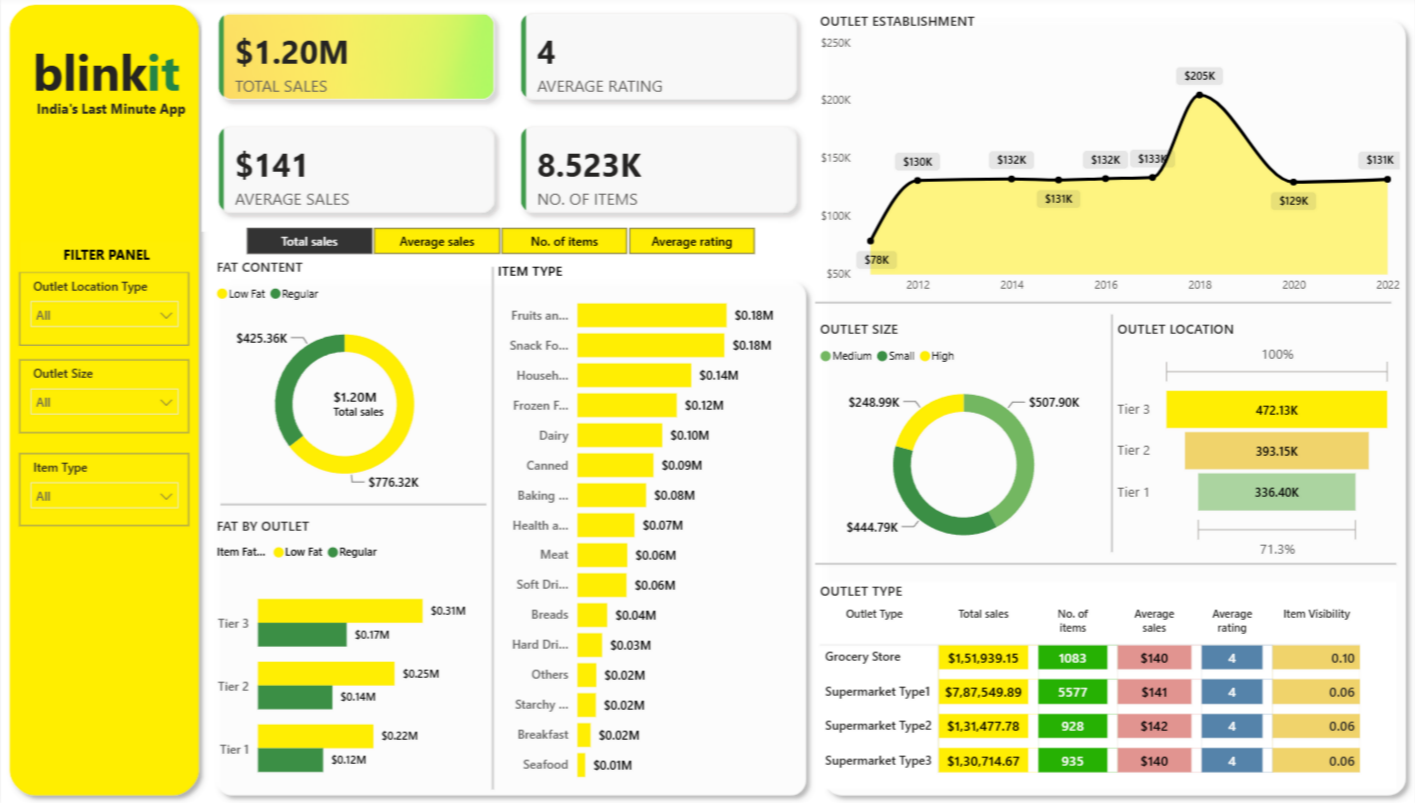

The dashboard page shown, as its layout file describes it:
{"tool":"powerbi","page":{"name":"Dashboard","canvas":[1400,800],"ordinal":0},"visuals":[{"type":"shape","box":[0,0,205.3,800.3],"z":0},{"type":"textbox","box":[0,37.1,209,76.7],"z":1000},{"type":"textbox","box":[30.9,97.7,205.3,33.4],"z":2000},{"type":"cardVisual","fields":{"Data":["BlinkIT Grocery Data.Total sales","BlinkIT Grocery Data.Average sales","BlinkIT Grocery Data.Average rating","BlinkIT Grocery Data.No. of items"]},"box":[199.1,0,607.3,233.8],"z":3000},{"type":"shape","box":[205.3,273.3,601.1,526.9],"z":4000},{"type":"donutChart","title":"FAT CONTENT","fields":{"Y":["BlinkIT Grocery Data.Total sales"],"Category":["BlinkIT Grocery Data.Item Fat Content"]},"box":[209,258.5,263.5,246.1],"z":5000},{"type":"slicer","fields":{"Values":["Metrics.Metrics"]},"box":[217.7,222.6,552.9,39.6],"z":6000},{"type":"cardVisual","fields":{"Data":["BlinkIT Grocery Data.Total sales"]},"box":[300.6,359.9,232.5,85.3],"z":7000},{"type":"clusteredBarChart","title":"FAT BY OUTLET","fields":{"Y":["BlinkIT Grocery Data.Total sales"],"Category":["BlinkIT Grocery Data.Outlet Location Type"],"Series":["BlinkIT Grocery Data.Item Fat Content"]},"box":[209,514.5,263.5,285.7],"z":8000},{"type":"shape","box":[217.7,482.4,263.5,42.1],"z":9000},{"type":"shape","box":[472.5,268.4,29.7,517],"z":10000},{"type":"barChart","title":"ITEM TYPE","fields":{"Y":["BlinkIT Grocery Data.Total sales"],"Category":["BlinkIT Grocery Data.Item Type"]},"box":[487.3,262.2,283.2,528.1],"z":11000},{"type":"shape","box":[806.4,14.8,593.7,785.4],"z":12000},{"type":"lineChart","title":"OUTLET ESTABLISHMENT","fields":{"Y":["BlinkIT Grocery Data.Total sales"],"Category":["BlinkIT Grocery Data.Outlet Establishment Year"]},"box":[806.4,14.8,583.8,288.2],"z":13000},{"type":"shape","box":[806.4,285.7,570.2,35.9],"z":14000},{"type":"donutChart","title":"OUTLET SIZE","fields":{"Y":["BlinkIT Grocery Data.Total sales"],"Category":["BlinkIT Grocery Data.Outlet Size"]},"box":[806.4,320.3,294.4,242.4],"z":15000},{"type":"shape","box":[1093.4,315.4,13.6,235],"z":16000},{"type":"funnel","title":" OUTLET LOCATION","fields":{"Category":["BlinkIT Grocery Data.Outlet Location Type"],"Y":["Sum(BlinkIT Grocery Data.Sales)"]},"box":[1100.8,320.3,282,242.4],"z":17000},{"type":"shape","box":[806.4,545.5,575.1,33.4],"z":18000},{"type":"pivotTable","title":"OUTLET TYPE","fields":{"Rows":["BlinkIT Grocery Data.Outlet Type"],"Values":["BlinkIT Grocery Data.Total sales","BlinkIT Grocery Data.No. of items","BlinkIT Grocery Data.Average sales","BlinkIT Grocery Data.Average rating","Avg(BlinkIT Grocery Data.Item Visibility)"]},"box":[806.4,578.9,576.4,206.6],"z":19000},{"type":"slicer","fields":{"Values":["BlinkIT Grocery Data.Outlet Location Type"]},"box":[18.6,273.3,168.2,73],"z":20000},{"type":"slicer","fields":{"Values":["BlinkIT Grocery Data.Outlet Size"]},"box":[18.6,359.9,168.2,73],"z":21000},{"type":"slicer","fields":{"Values":["BlinkIT Grocery Data.Item Type"]},"box":[18.6,452.7,168.2,71.7],"z":22000},{"type":"textbox","box":[18.6,242.4,173.2,30.9],"z":23000}]}

Visuals, with their boxes in screenshot pixels (x1, y1, x2, y2), scaled from the page's 1400x800 canvas onto the 1415x803 screenshot:
shape: bbox=(0, 0, 207, 802)
textbox: bbox=(0, 37, 211, 114)
textbox: bbox=(31, 98, 239, 132)
cardVisual - BlinkIT Grocery Data.Total sales x BlinkIT Grocery Data.Average sales: bbox=(201, 0, 815, 235)
shape: bbox=(207, 274, 815, 802)
"FAT CONTENT" donutChart: bbox=(211, 259, 478, 506)
slicer - Metrics.Metrics: bbox=(220, 223, 779, 263)
cardVisual - BlinkIT Grocery Data.Total sales: bbox=(304, 361, 539, 447)
"FAT BY OUTLET" clusteredBarChart: bbox=(211, 516, 478, 802)
shape: bbox=(220, 484, 486, 526)
shape: bbox=(478, 269, 508, 788)
"ITEM TYPE" barChart: bbox=(493, 263, 779, 793)
shape: bbox=(815, 15, 1414, 802)
"OUTLET ESTABLISHMENT" lineChart: bbox=(815, 15, 1405, 304)
shape: bbox=(815, 287, 1391, 323)
"OUTLET SIZE" donutChart: bbox=(815, 322, 1113, 565)
shape: bbox=(1105, 317, 1119, 552)
" OUTLET LOCATION" funnel: bbox=(1113, 322, 1398, 565)
shape: bbox=(815, 548, 1396, 581)
"OUTLET TYPE" pivotTable: bbox=(815, 581, 1398, 788)
slicer - BlinkIT Grocery Data.Outlet Location Type: bbox=(19, 274, 189, 348)
slicer - BlinkIT Grocery Data.Outlet Size: bbox=(19, 361, 189, 435)
slicer - BlinkIT Grocery Data.Item Type: bbox=(19, 454, 189, 526)
textbox: bbox=(19, 243, 194, 274)
